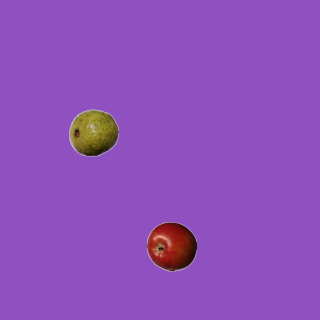Apple Braeburn: (146, 221, 196, 271)
Guava: (68, 107, 118, 157)
